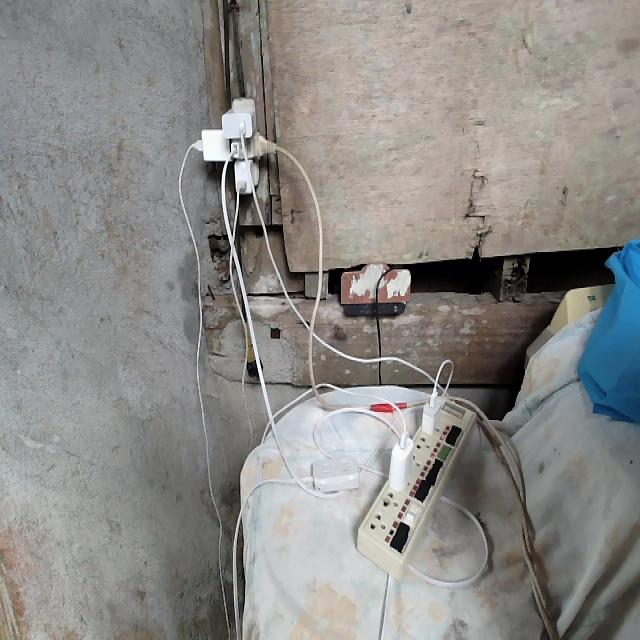-: (196, 93, 275, 199)
